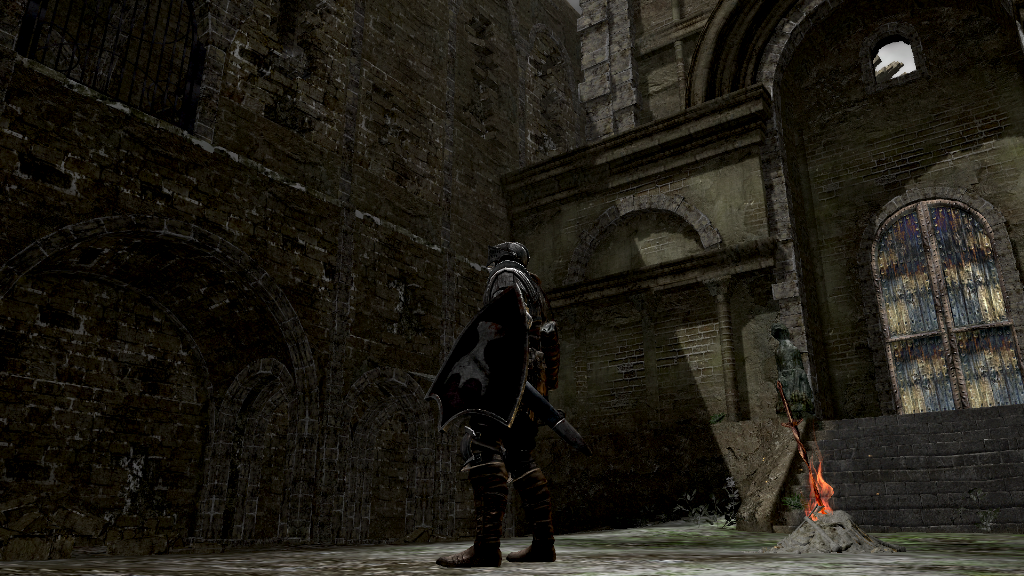bonfire: (774, 378, 864, 536)
player: (420, 240, 565, 568)
